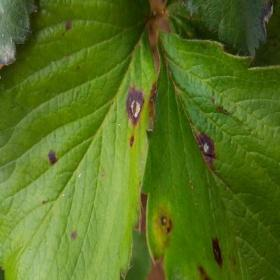Leaf Spot: (0, 0, 157, 279), (140, 29, 279, 279)
